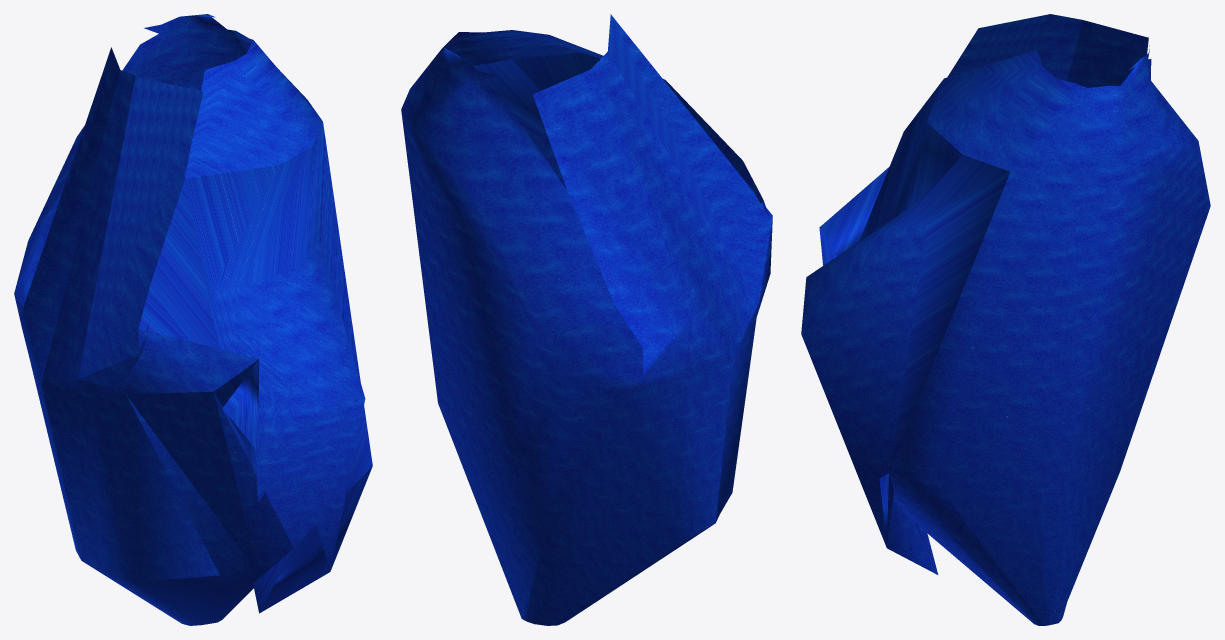
File: piernaizq.obj
3 views of the same model, side by side, from view 1: azimuth 30°, elevation 25°; view 2: azimuth 150°, elevation 25°; view 3: azimuth 270°, elevation 25° (orthographic). The views are drawn at different scales.
Bounding box in the file's own units: 0.9988 × 1.87 × 1.2.
Materials: 1 (1 with a texture image).
